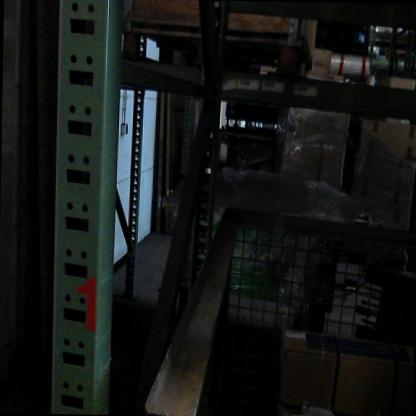pallet: (94, 18, 305, 81)
stillage: (176, 149, 400, 379)
